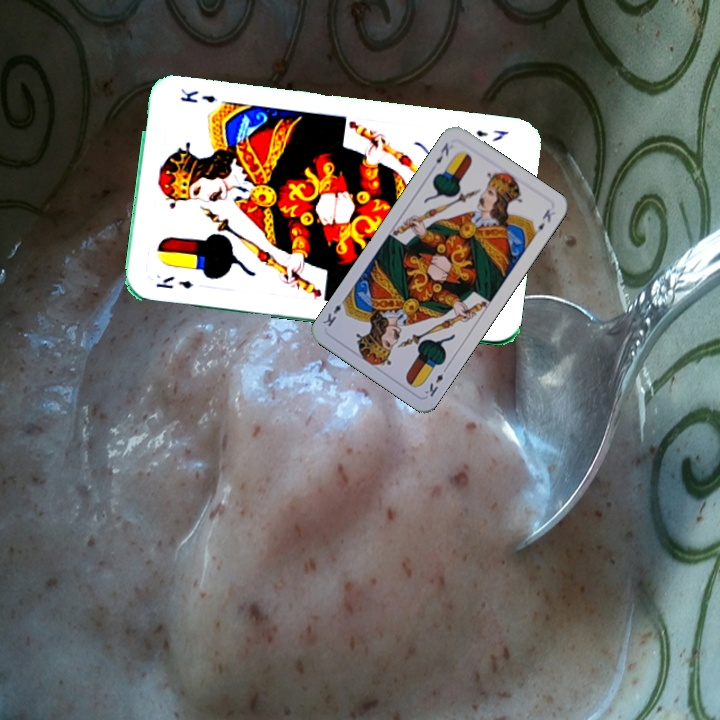EK: (420, 362, 451, 400), (152, 272, 195, 291), (472, 126, 511, 144), (432, 138, 452, 166)
